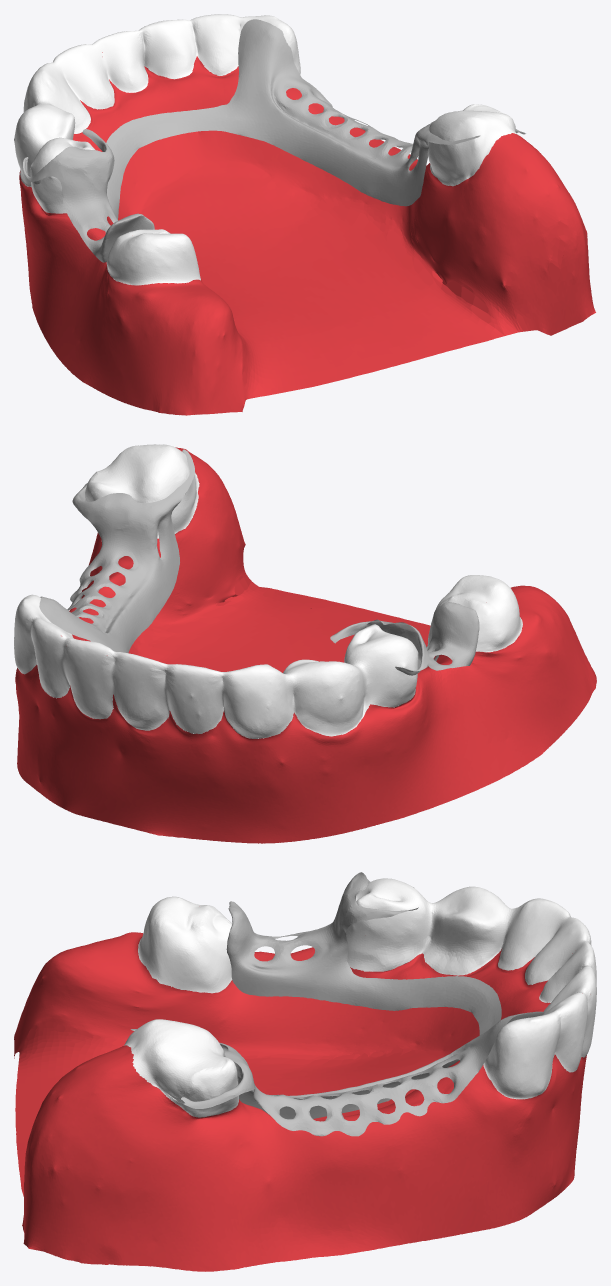
The model's file is 1756915937465-09_teeth+cast-draco.glb.
The picture shows the model from 3 angles, top to bottom: view 1: azimuth 30°, elevation 25°; view 2: azimuth 150°, elevation 25°; view 3: azimuth 270°, elevation 25°; orthographic projection. The views are drawn at different scales.
Visible parts, largest first — view 1: 09_teeth, 09_cast; view 2: 09_teeth, 09_cast; view 3: 09_teeth, 09_cast.
Boxes of the visible parts, x1,y1,x2,y2 form: 09_teeth: (14,14,595,415); 09_cast: (23,19,525,262); 09_teeth: (14,444,596,843); 09_cast: (39,449,479,675); 09_teeth: (14,878,596,1271); 09_cast: (130,872,543,1136).
Size of the model in its own units: 86.96 by 36.39 by 86.2.
